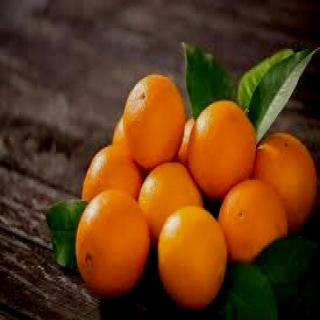orange: (78, 174, 154, 296), (188, 90, 252, 222), (110, 63, 184, 175), (164, 202, 228, 320), (224, 170, 286, 282)
